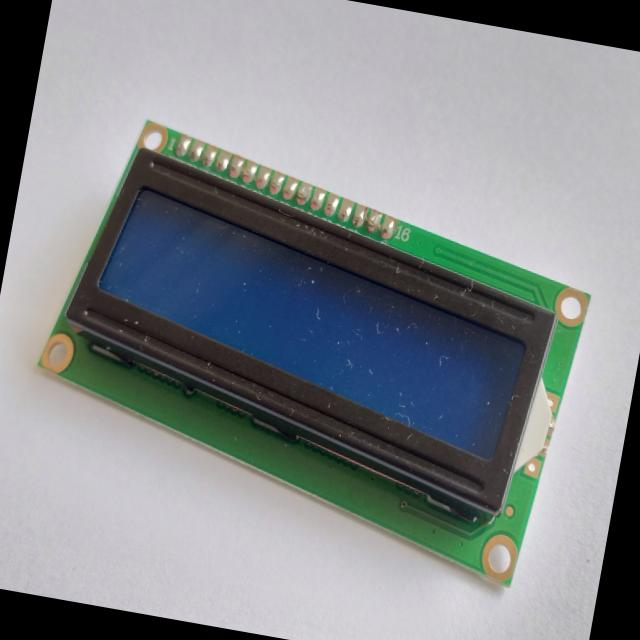lcd: (13, 106, 608, 593)
